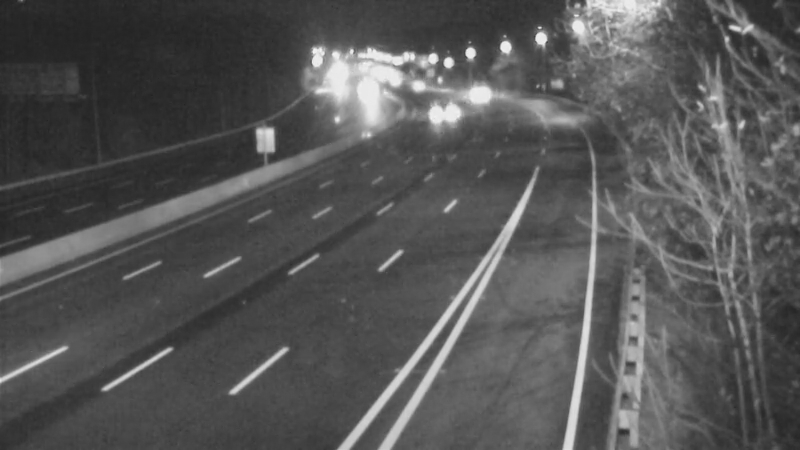vehicle: (389, 62, 439, 112), (452, 69, 502, 119), (416, 85, 466, 135), (344, 69, 394, 119)
